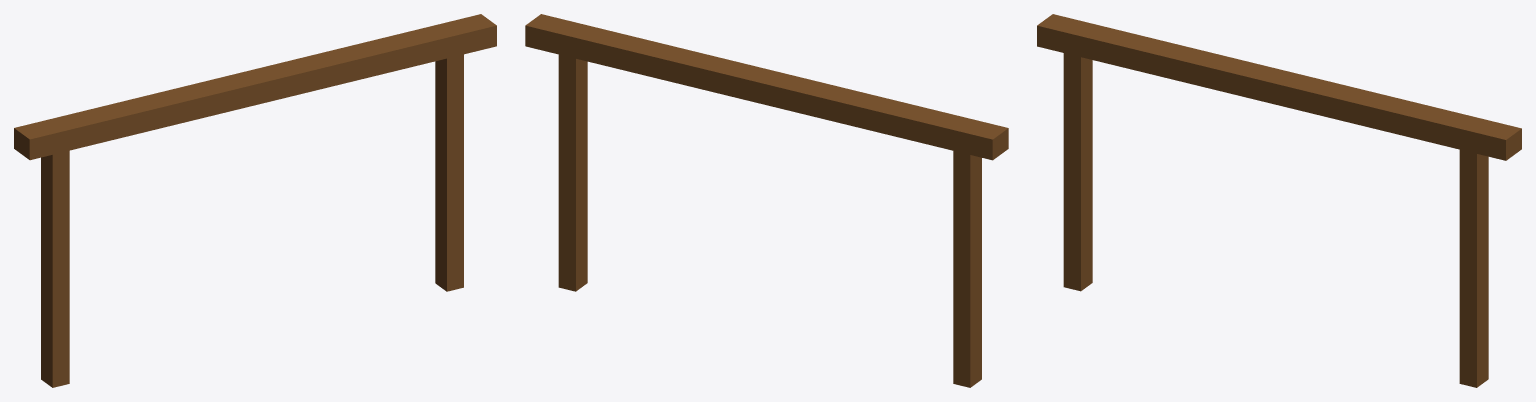
The model's file is roof_support.glb.
3 views of the same model, side by side, from view 1: azimuth 30°, elevation 25°; view 2: azimuth 150°, elevation 25°; view 3: azimuth 330°, elevation 25° (orthographic).
Parts seen in each view (by area): view 1: support; view 2: support; view 3: support.
Boxes of the visible parts, x1,y1,x2,y2 form: support: [14, 14, 496, 387]; support: [525, 14, 1008, 387]; support: [1037, 14, 1521, 387].
Bounding box in the file's own units: 3.54 × 1.85 × 0.2072.
